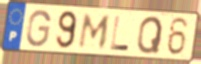6: (166, 16, 190, 57)
9: (55, 9, 79, 51)
G: (25, 9, 52, 49)
L: (109, 15, 131, 52)
M: (77, 13, 113, 50)
Q: (136, 15, 165, 55)
